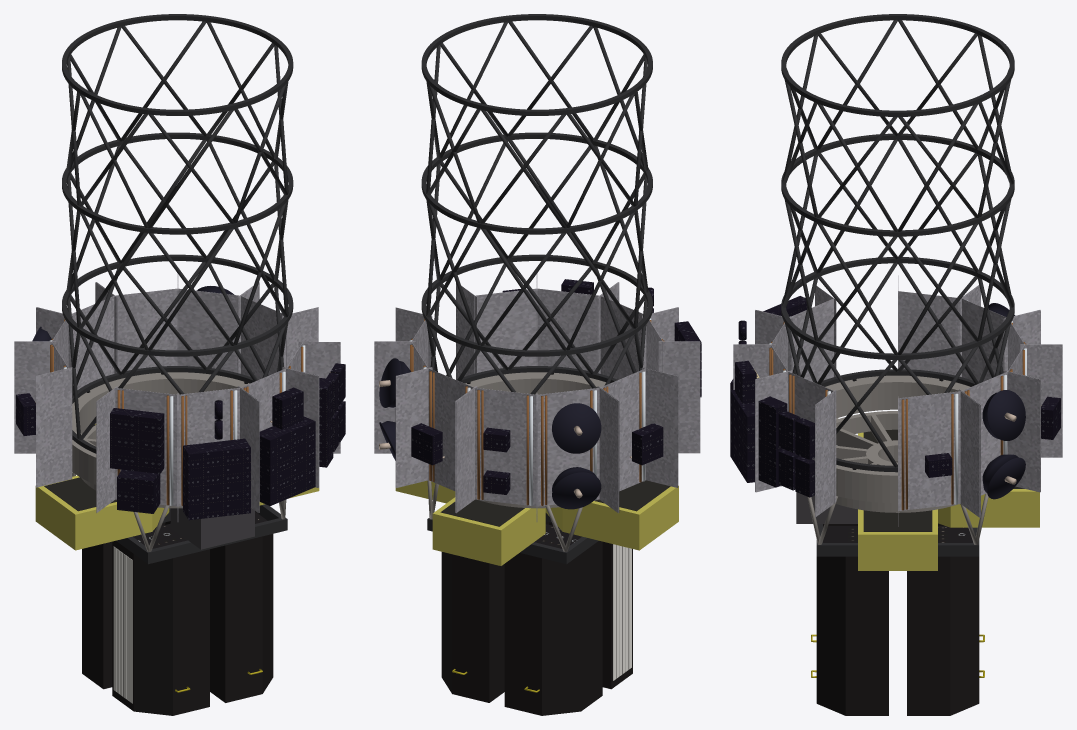
Rendered from hubble.glb.
3 renders of one model, left to right at view 1: azimuth 30°, elevation 25°; view 2: azimuth 150°, elevation 25°; view 3: azimuth 270°, elevation 25°, orthographic.
Parts seen in each view (by area): view 1: acs, nicmos, bay_2_battery_module_1, cos, fine_guidance_sensor_3, bay_3_battery_module_1, bay_10_lining_side_b, main_ring, metering_truss_ring_4, bay_6_lining_back, bay_7_lining_back, bay_1_dmu_2 (+48 smaller); view 2: cos, stis, bay_8_lining_back, fine_guidance_sensor_2, fine_guidance_sensor_3, metering_truss_ring_4, bay_4_lining_back, bay_3_lining_back, metering_truss_ring_2, metering_truss_ring_3, bay_1_lining_side_a, bay_10_lining_side_b (+50 smaller); view 3: nicmos, stis, bay_5_lining_back, main_ring, metering_truss_ring_4, bay_10_lining_back, fine_guidance_sensor_1, metering_truss_ring_2, metering_truss_ring_3, fine_guidance_sensor_2, bay_6_lining_side_b, bay_4_lining_side_b (+51 smaller).
Boxes of the visible parts, <box> form: acs: <box>112,523,209,715</box>; nicmos: <box>210,511,273,702</box>; bay_2_battery_module_1: <box>183,438,250,520</box>; cos: <box>82,522,165,689</box>; fine_guidance_sensor_3: <box>35,475,169,550</box>; bay_3_battery_module_1: <box>259,416,315,505</box>; bay_10_lining_side_b: <box>36,367,72,487</box>; main_ring: <box>72,372,249,484</box>; metering_truss_ring_4: <box>62,14,293,115</box>; bay_6_lining_back: <box>177,288,239,372</box>; bay_7_lining_back: <box>116,288,177,371</box>; bay_1_dmu_2: <box>110,408,164,473</box>; cos: <box>504,524,602,715</box>; stis: <box>441,552,504,702</box>; bay_8_lining_back: <box>474,387,537,506</box>; fine_guidance_sensor_2: <box>432,497,545,565</box>; fine_guidance_sensor_3: <box>545,485,678,550</box>; metering_truss_ring_4: <box>421,14,652,115</box>; bay_4_lining_back: <box>474,288,537,373</box>; bay_3_lining_back: <box>537,288,599,371</box>; metering_truss_ring_2: <box>421,254,652,356</box>; metering_truss_ring_3: <box>421,132,652,234</box>; bay_1_lining_side_a: <box>658,341,700,453</box>; bay_10_lining_side_b: <box>642,367,678,487</box>; nicmos: <box>816,526,888,715</box>; stis: <box>907,526,979,715</box>; bay_5_lining_back: <box>898,391,960,510</box>; main_ring: <box>825,375,970,503</box>; metering_truss_ring_4: <box>781,14,1014,116</box>; bay_10_lining_back: <box>898,291,958,375</box>; fine_guidance_sensor_1: <box>858,509,937,570</box>; metering_truss_ring_2: <box>781,257,1014,359</box>; metering_truss_ring_3: <box>781,133,1014,236</box>; fine_guidance_sensor_2: <box>938,489,1039,527</box>; bay_6_lining_side_b: <box>1003,371,1040,492</box>; bay_4_lining_side_b: <box>815,389,836,517</box>.
Bounding box in the file's own units: 4.12 × 8.53 × 4.15.
16 materials, 3 textured.
